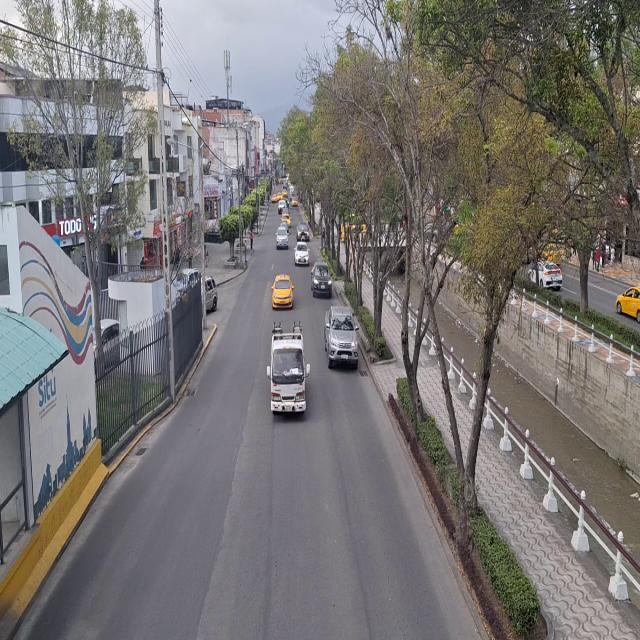CMT: (325, 308, 358, 366)
SED: (273, 276, 294, 308)
SUV: (312, 266, 331, 296)
TRUCK: (268, 318, 307, 417)
